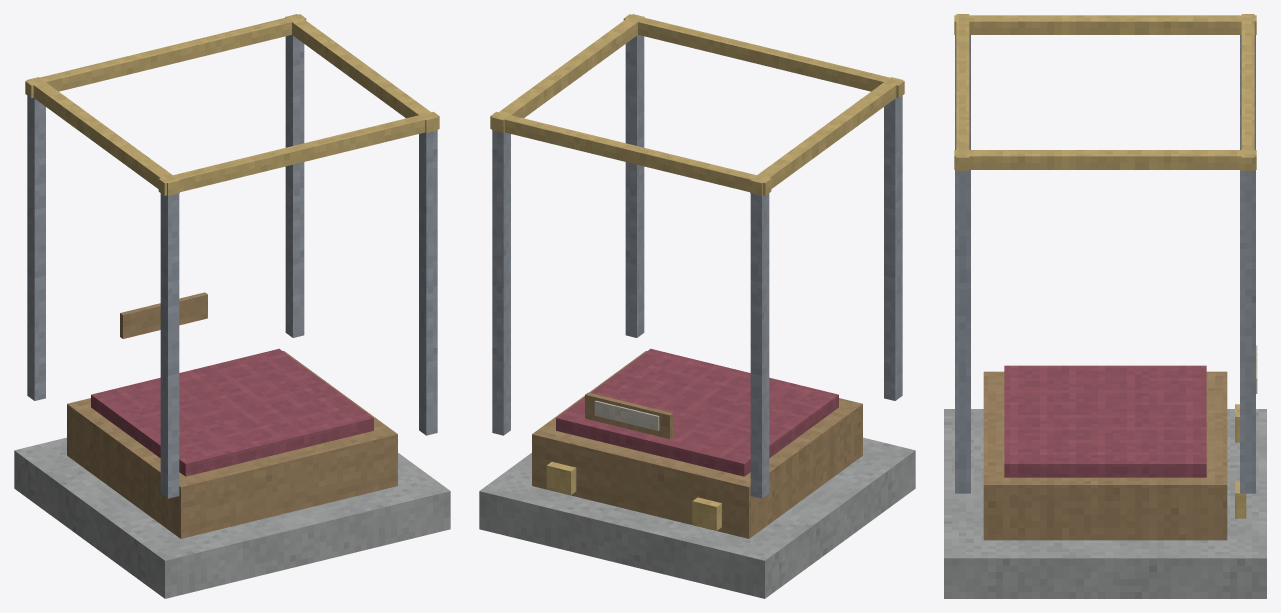
File: level_blockout_relic_open_guard.glb
3 renders of one model, left to right at view 1: azimuth 30°, elevation 25°; view 2: azimuth 150°, elevation 25°; view 3: azimuth 270°, elevation 25°, orthographic. The views are drawn at different scales.
Parts seen in each view (by area): view 1: level_blockout_relic_open_guard; view 2: level_blockout_relic_open_guard; view 3: level_blockout_relic_open_guard.
Part boxes in pixels (x1,y1,x2,y2): level_blockout_relic_open_guard: (14, 14, 450, 598); level_blockout_relic_open_guard: (479, 14, 915, 598); level_blockout_relic_open_guard: (944, 14, 1266, 598).
Bounding box in the file's own units: 1.88 × 2.58 × 1.72.
Materials: 6 (6 with a texture image).
